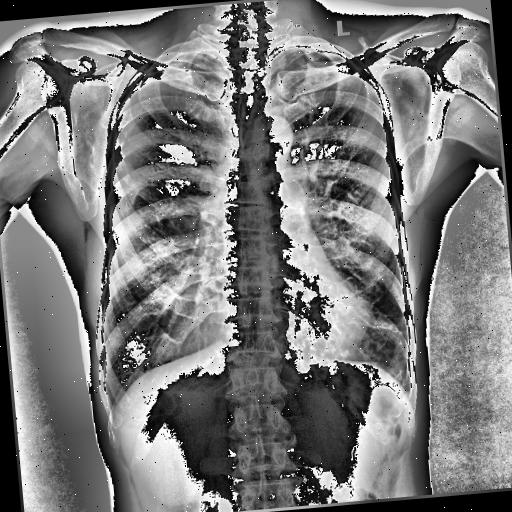10- Pleural effusion: (396, 380, 418, 413), (102, 392, 122, 418)
11- Pleural thickening: (111, 112, 154, 224), (396, 380, 418, 413), (102, 392, 122, 418)
13- Pulmonary fibrosis: (114, 178, 202, 310), (352, 292, 408, 382), (334, 313, 410, 339), (346, 302, 400, 334)
5- ILD: (352, 292, 408, 382)
6- Infiltration: (114, 178, 202, 310), (352, 292, 408, 382)
9- Other lesion: (114, 178, 202, 310), (111, 112, 154, 224), (358, 330, 404, 373)
